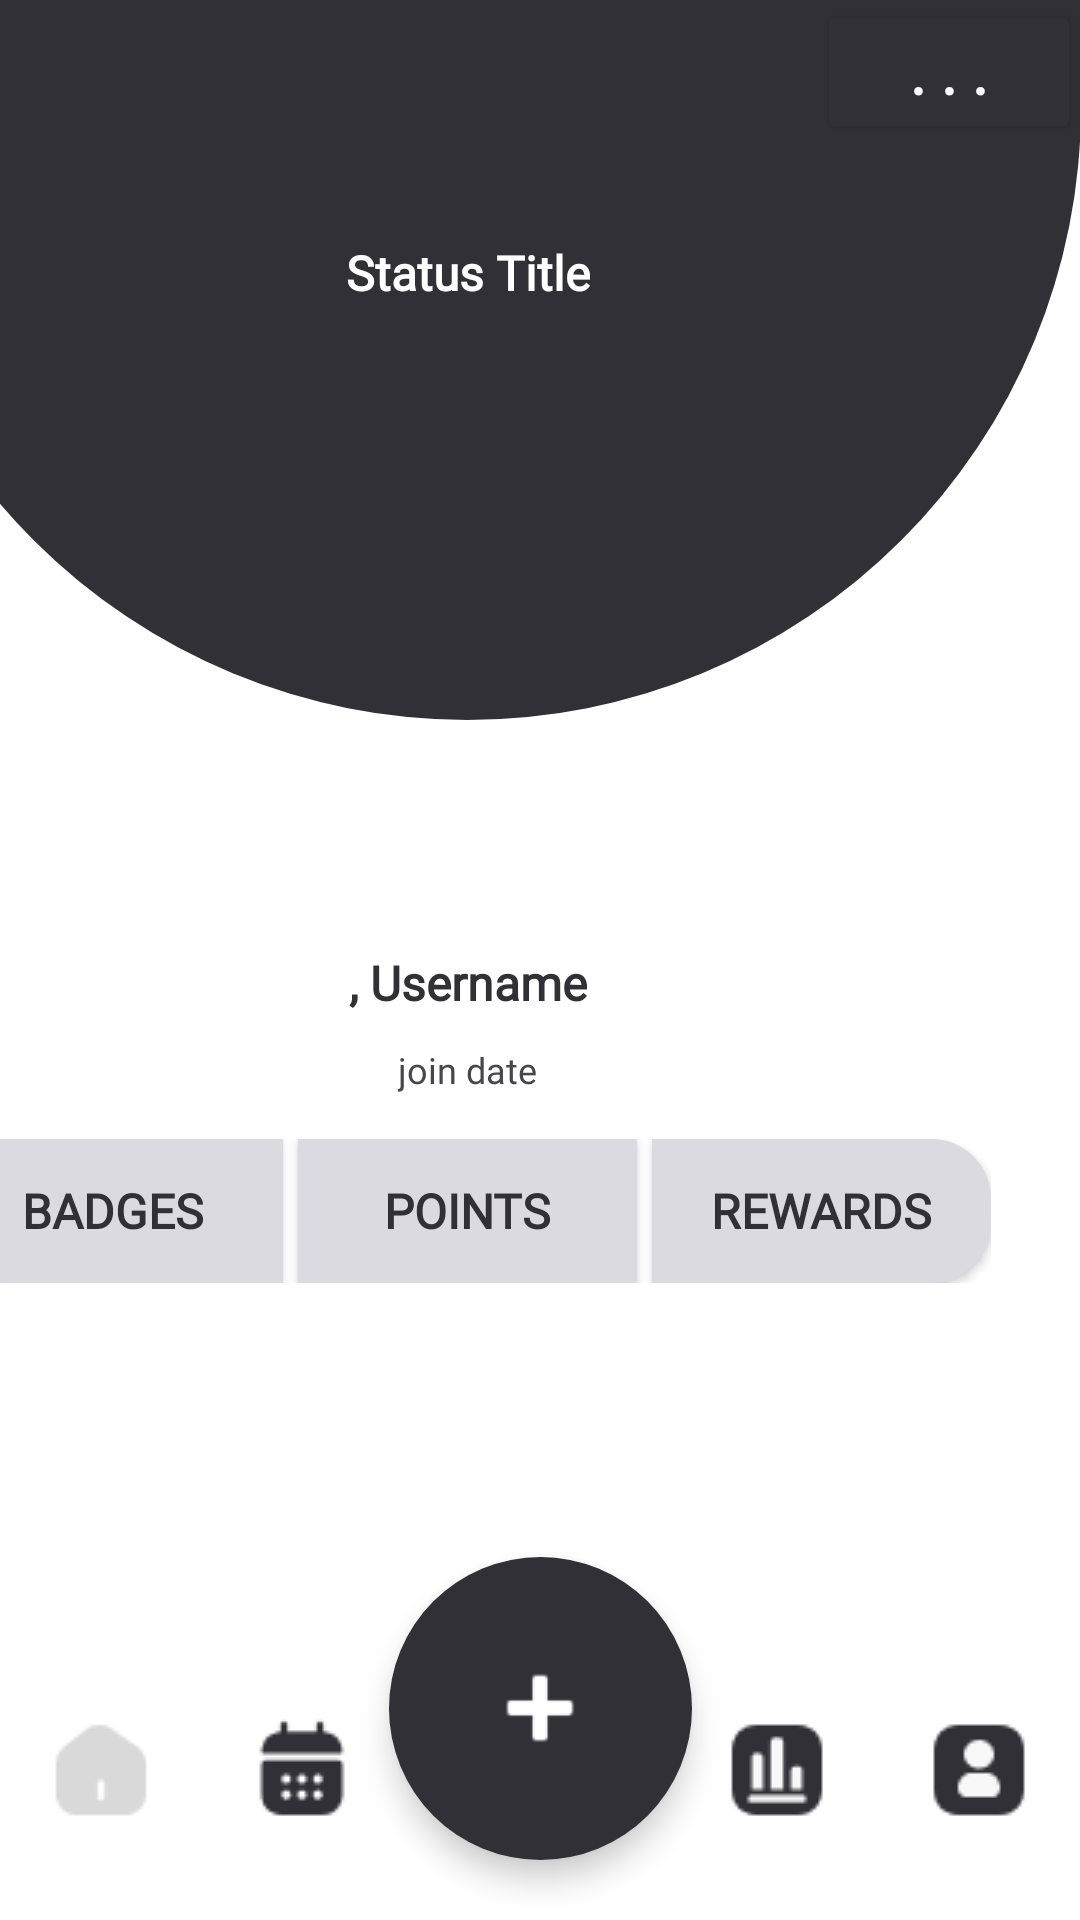

Named icons in this screenshot (1080px x 1920px) and their bounding boxes, (x1, y1, x2, y2):
Analytics: (731, 1724, 823, 1816)
Calendar: (259, 1721, 345, 1816)
Home: (56, 1725, 146, 1815)
Profile: (933, 1724, 1025, 1816)
